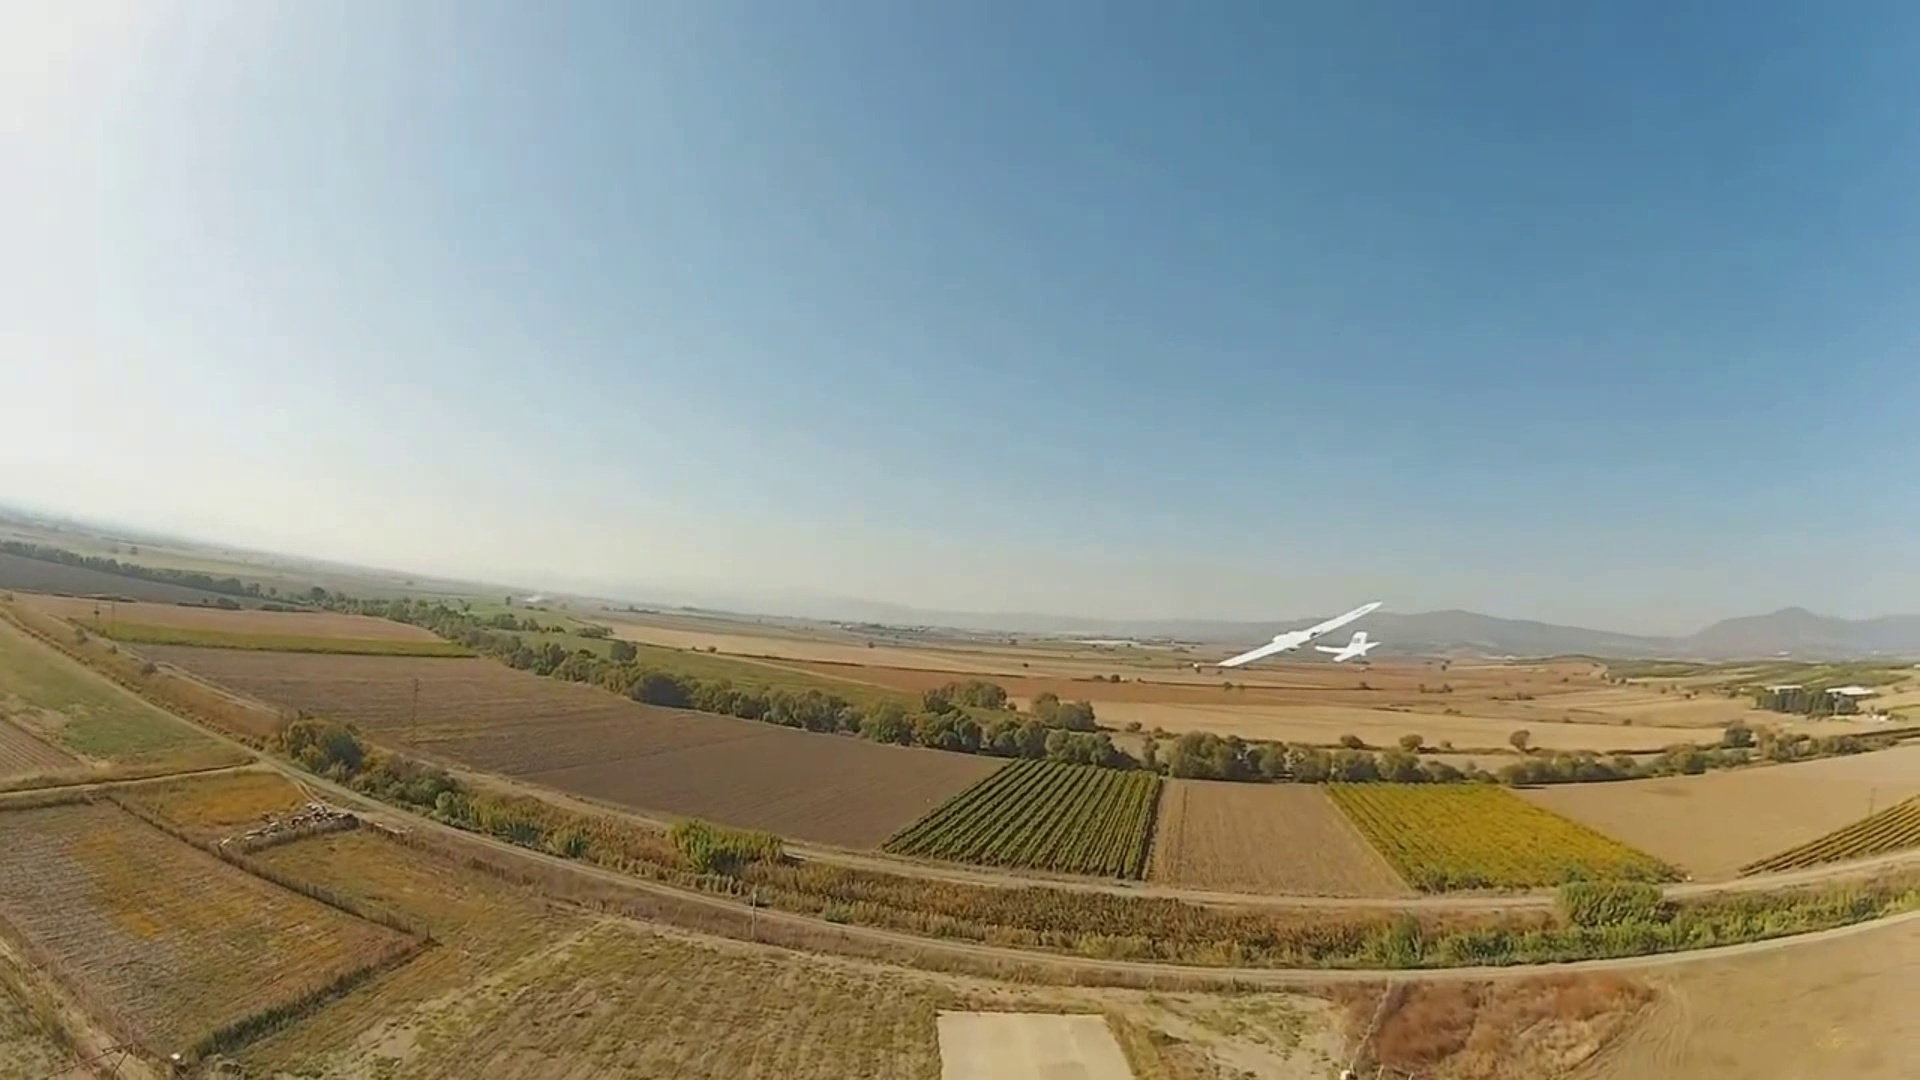airplane: (1175, 599, 1385, 676)
